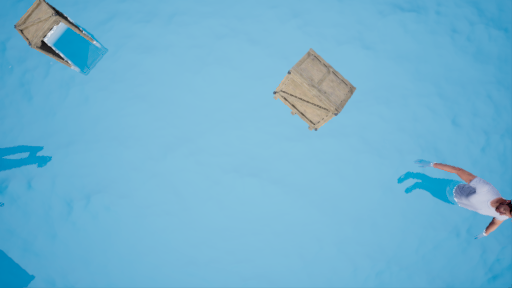person: (403, 162, 512, 233)
